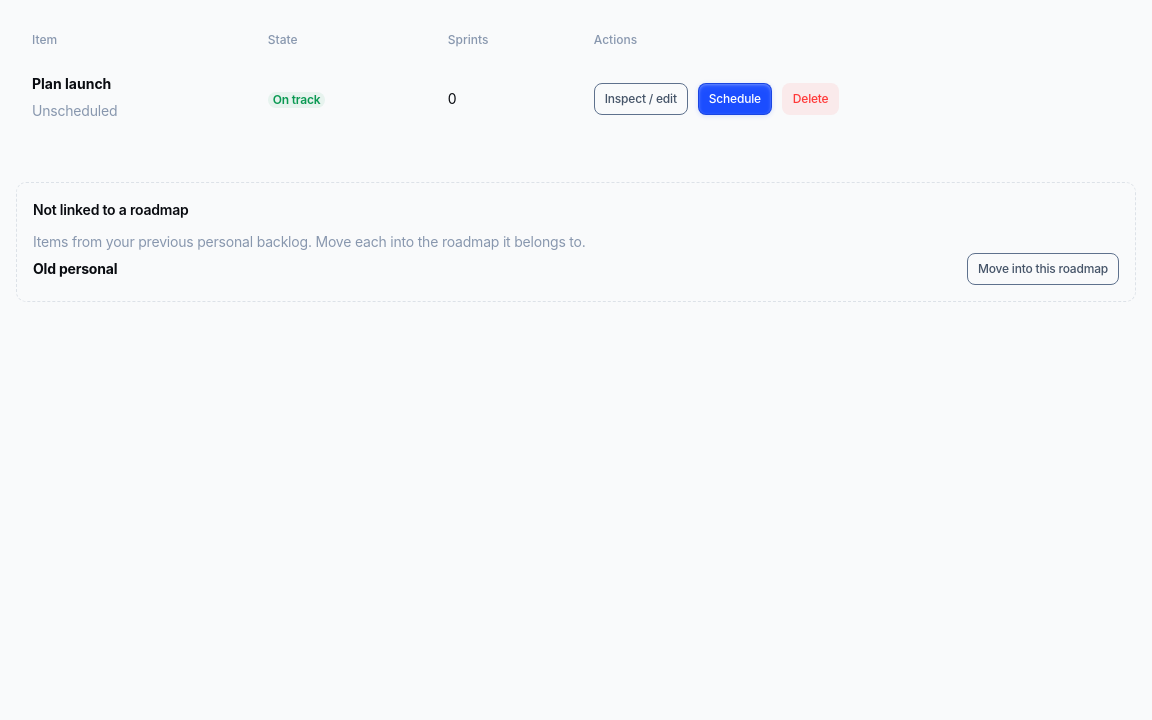
Test case: BacklogView (roadmap-scoped) › lists legacy personal items separately and moves one into the open roadmap
The width and height of the screenshot is (1152, 720).
Click the button "Move into this roadmap": (1043, 269) [967,253,1119,285]
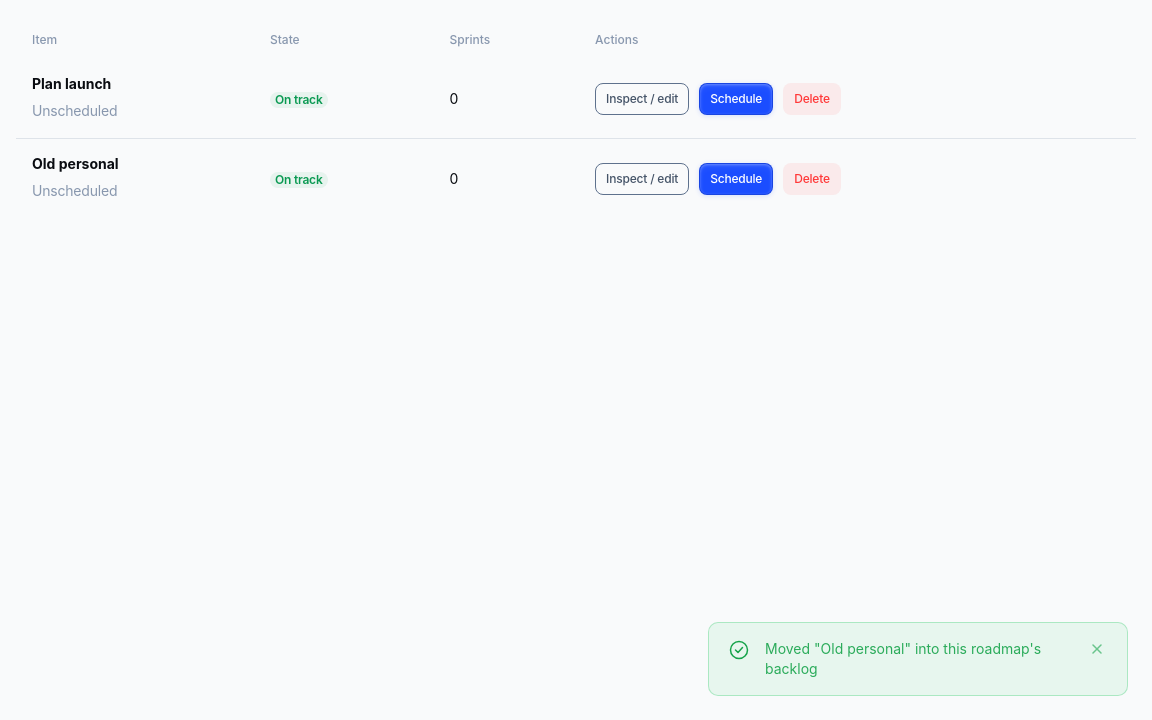
Check: the element with test id "backlog-legacy" is gone
Check: the number of rows with test id "backlog-row" is 2, box [16,59,1136,138]; [16,138,1136,218]
